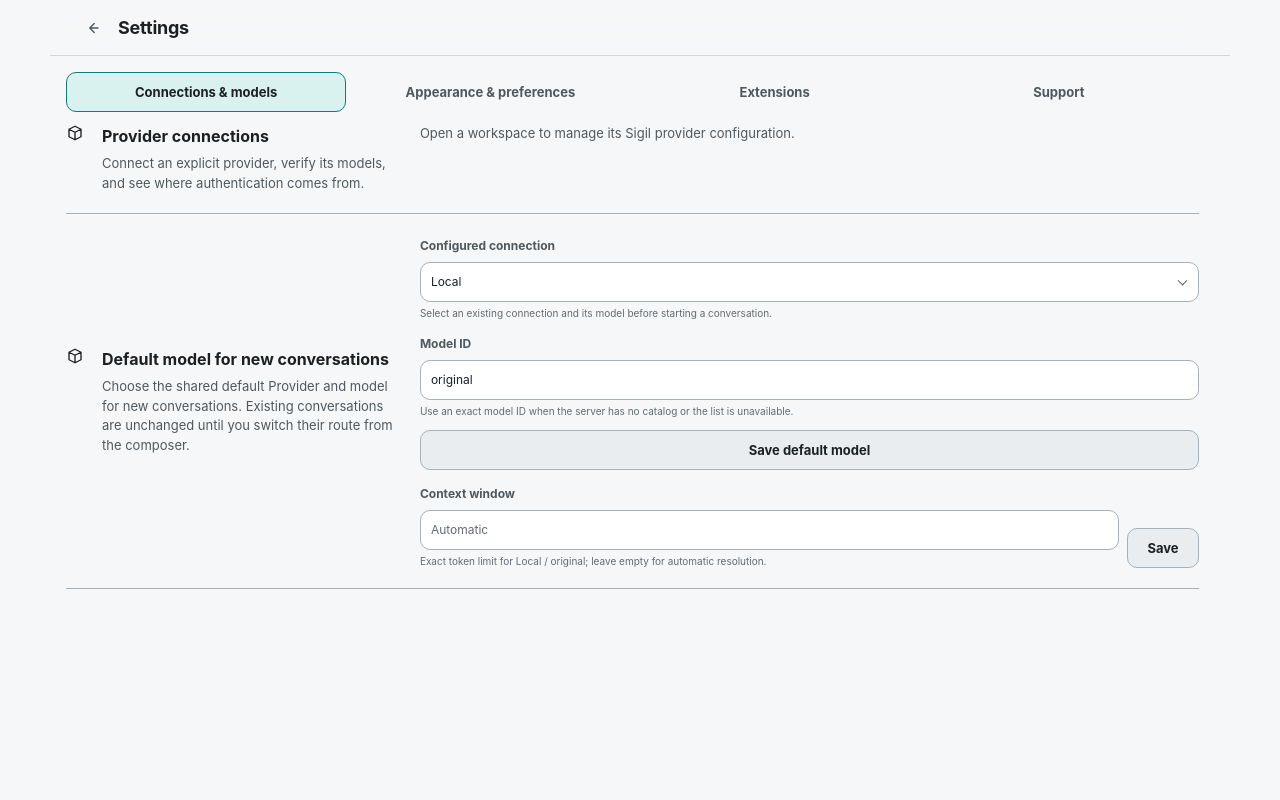
Test: settings categories › explains an extension category without a workspace instead of enabling workspace actions
Click the button "Extensions". click: point(775, 92)
box: [634, 72, 915, 112]
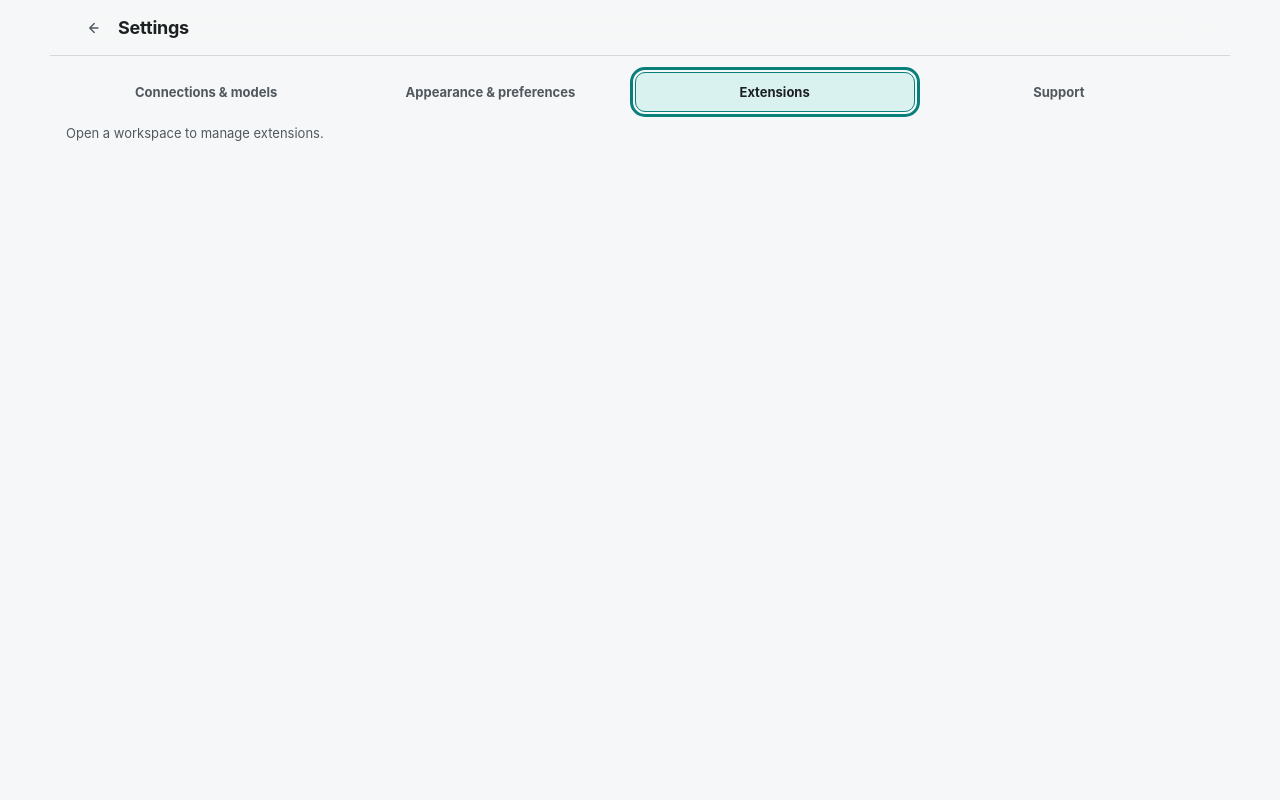
Expected: the text "Open a workspace to manage extensions." is shown, [66, 125, 324, 141]
